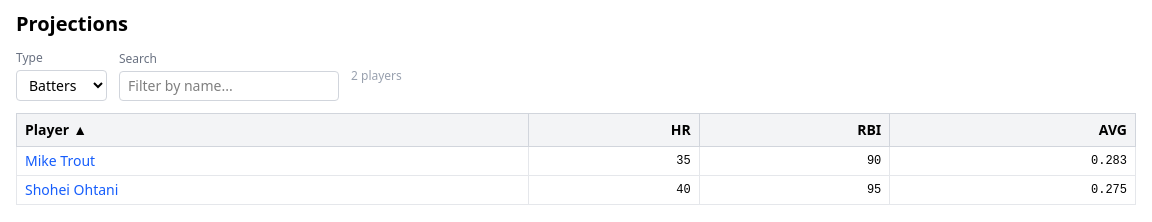
ProjectionsView › filters players by name
Expected: the button "Mike Trout" is shown, [25,151,95,171]
In the field with placeholder "Filter by name...": {"x": 229, "y": 86} [119,71,339,101], type "trout"
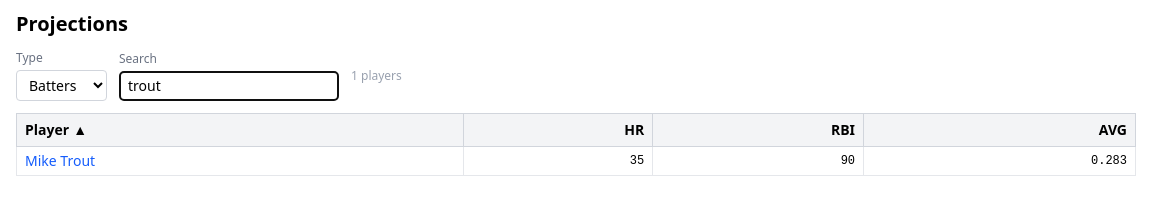
Expected: the button "Mike Trout" is shown, [25,151,95,171]
Now the button "Shohei Ohtani" is gone
